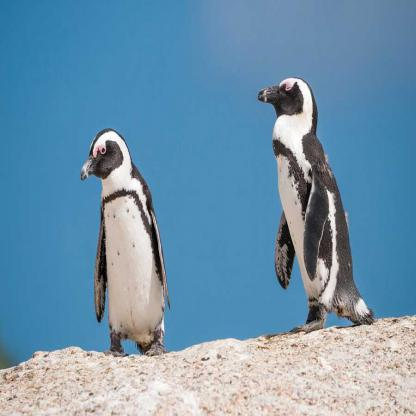Penguin: (240, 66, 389, 353), (78, 120, 194, 373)
